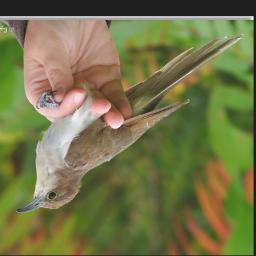Cuckoo: (16, 35, 245, 217)
